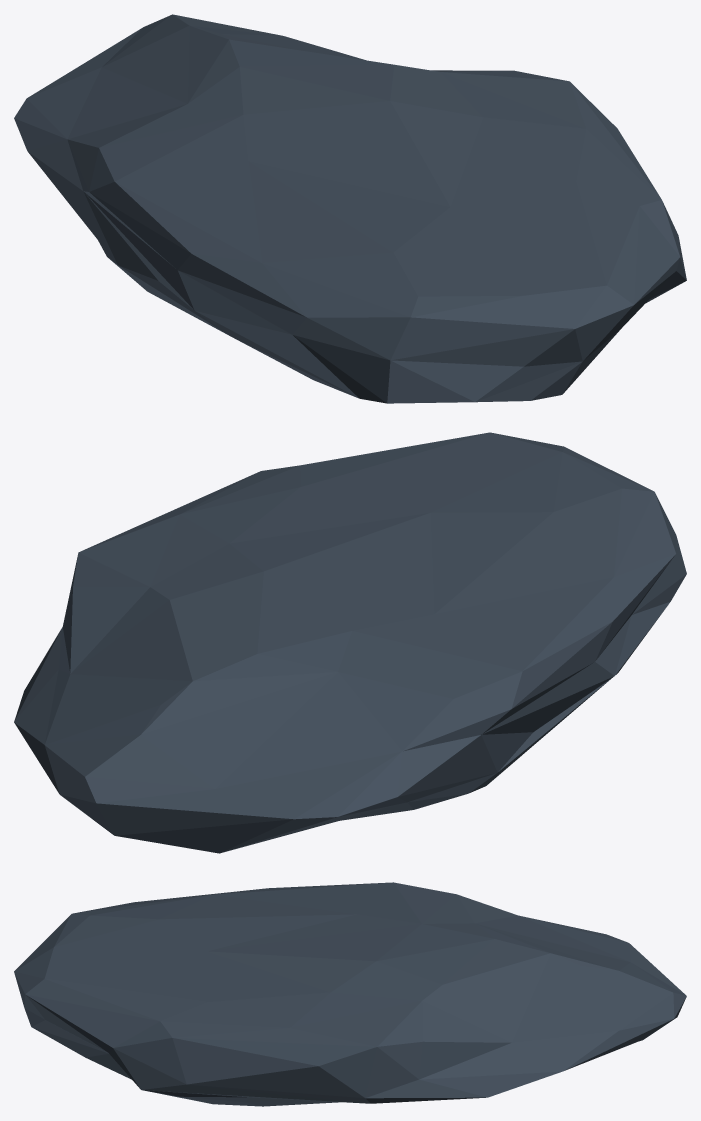
File: Rock007.obj
3 views of the same model, one above another, from view 1: azimuth 30°, elevation 25°; view 2: azimuth 150°, elevation 25°; view 3: azimuth 270°, elevation 25° (orthographic). The views are drawn at different scales.
Parts seen in each view (by area): view 1: Stone_Material; view 2: Stone_Material; view 3: Stone_Material.
Boxes of the visible parts, x1=… form: Stone_Material: x1=14, y1=14, x2=686, y2=403; Stone_Material: x1=14, y1=432, x2=686, y2=853; Stone_Material: x1=14, y1=882, x2=686, y2=1106.
Bounding box in the file's own units: 2.38 × 0.7576 × 3.97.
1 material, 1 textured.
